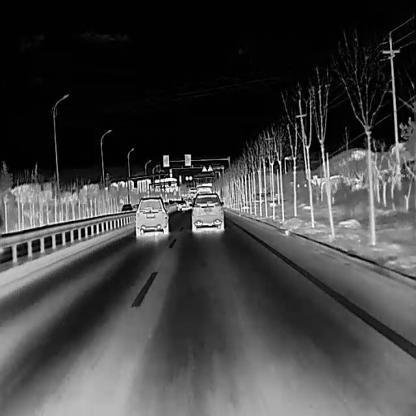car: (191, 191, 225, 232), (134, 195, 167, 237), (120, 203, 133, 222), (176, 199, 187, 211)
